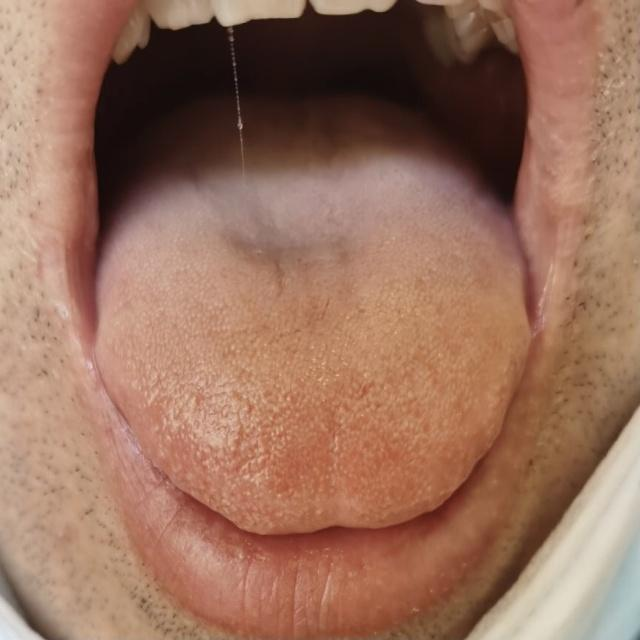chihenshe: (506, 260, 533, 350)
huangtaishe: (93, 152, 531, 537)
piweiao: (216, 188, 377, 268)
xinfeiao: (285, 506, 390, 537)
